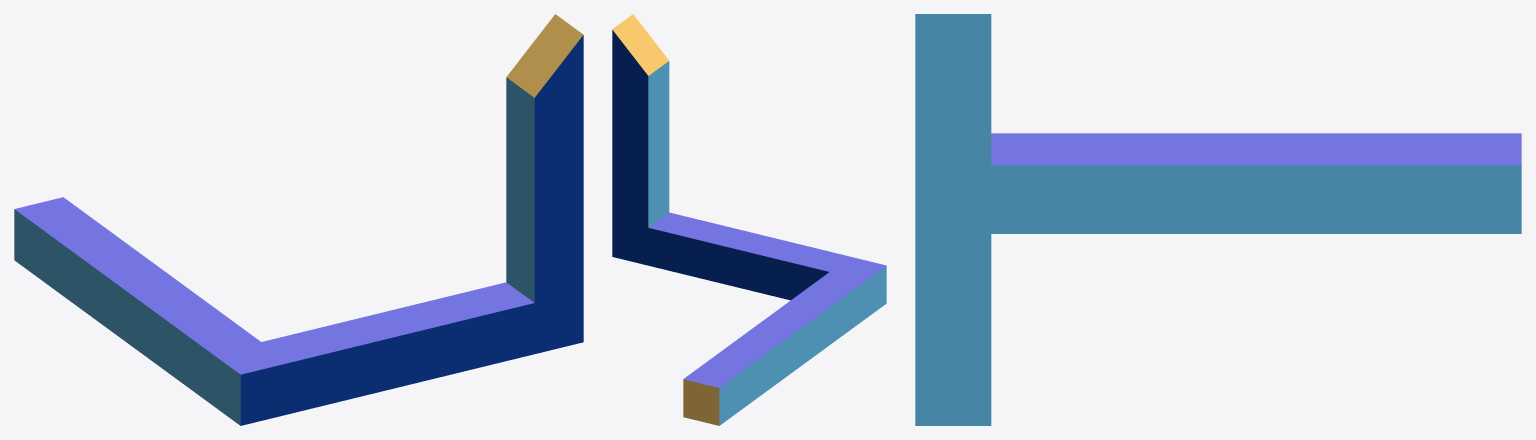
Rendered from penrose.dae.
3 views of the same model, side by side, from view 1: azimuth 30°, elevation 25°; view 2: azimuth 150°, elevation 25°; view 3: azimuth 270°, elevation 25° (orthographic). The views are drawn at different scales.
Visible parts, largest first — view 1: poly16, poly17, poly11, poly14, poly15, poly13, poly4; view 2: poly18, poly19, poly11, poly14, poly15, poly13, poly4, poly10; view 3: poly8, poly6, poly14.
Boxes of the visible parts, x1,y1,x2,y2 form: poly16: (240, 303, 582, 425); poly17: (534, 35, 583, 341); poly11: (14, 209, 240, 425); poly14: (14, 197, 260, 374); poly15: (241, 282, 533, 374); poly13: (506, 77, 534, 302); poly4: (506, 14, 583, 97); poly18: (612, 30, 648, 256); poly19: (612, 228, 828, 300); poly11: (719, 266, 886, 425); poly14: (683, 265, 885, 387); poly15: (649, 212, 886, 271); poly13: (648, 61, 669, 227); poly4: (612, 14, 668, 75); poly10: (683, 379, 719, 425); poly8: (991, 165, 1521, 233); poly6: (915, 14, 991, 425); poly14: (991, 133, 1521, 165).
Bounding box in the file's own units: 7 × 8 × 6.
